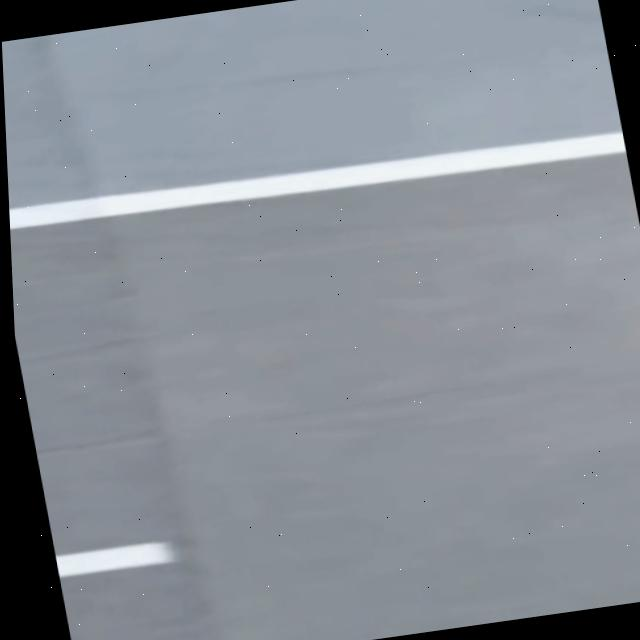center: (55, 542, 176, 577)
left: (9, 131, 626, 228)
